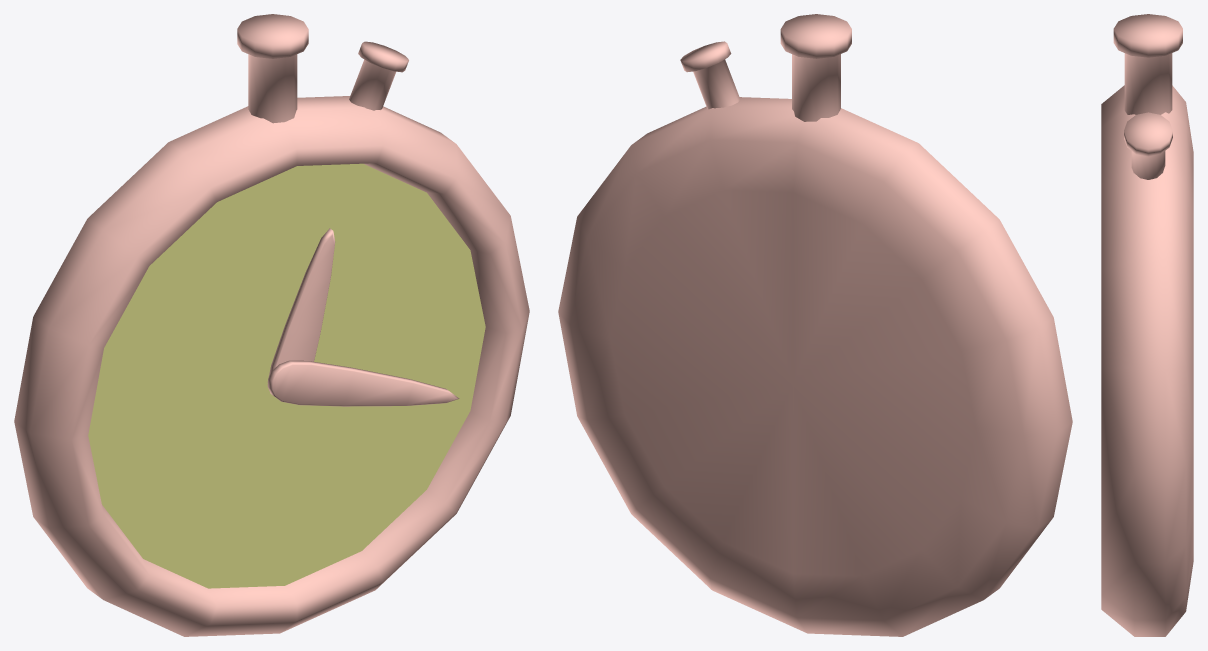
Rendered from Timer.glb.
The picture shows the model from 3 angles, left to right: view 1: azimuth 30°, elevation 25°; view 2: azimuth 150°, elevation 25°; view 3: azimuth 270°, elevation 25°; orthographic projection. The views are drawn at different scales.
Visible parts, largest first — view 1: Timer; view 2: Timer; view 3: Timer.
Boxes of the visible parts, left/top/right/bottom form: Timer: left=14, top=14, right=529, bottom=636; Timer: left=558, top=14, right=1072, bottom=636; Timer: left=1101, top=14, right=1193, bottom=636.
Size of the model in its own units: 220 by 252 by 36.19.
